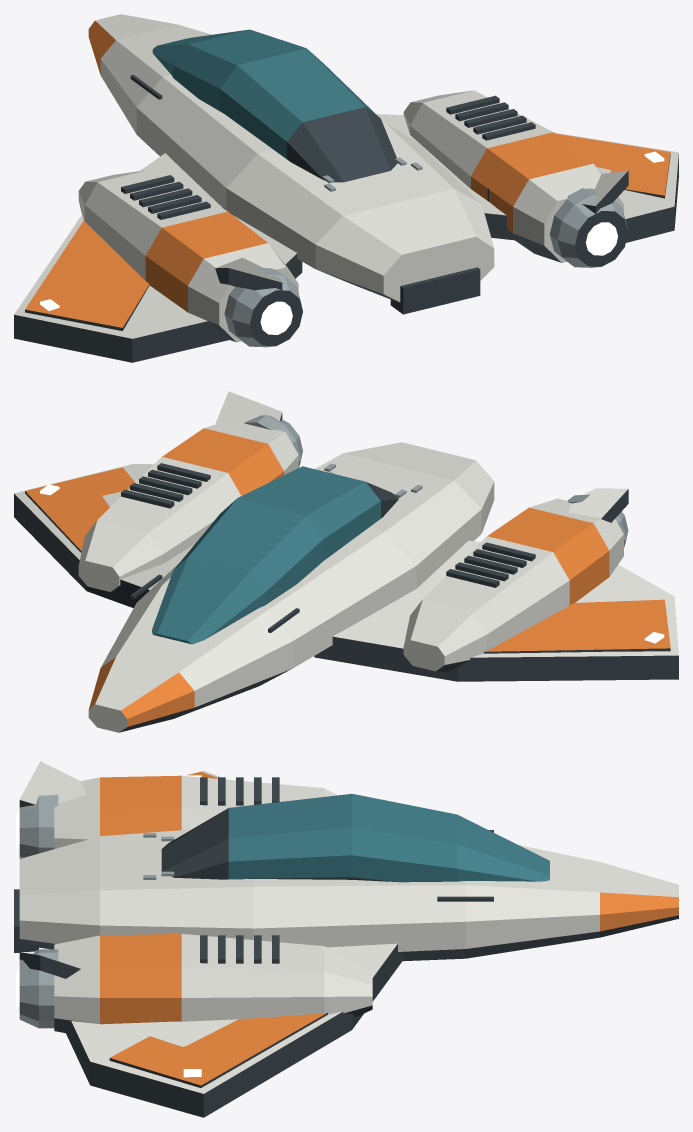
The model's file is kepler.glb.
3 views of the same model, one above another, from view 1: azimuth 30°, elevation 25°; view 2: azimuth 150°, elevation 25°; view 3: azimuth 270°, elevation 25° (orthographic).
Parts seen in each view (by area): view 1: kepler; view 2: kepler; view 3: kepler.
Part boxes in pixels (left/top/right/bottom): kepler: left=14, top=14, right=678, bottom=362; kepler: left=14, top=391, right=678, bottom=732; kepler: left=14, top=761, right=678, bottom=1117.
Size of the model in its own units: 5.52 by 1.16 by 4.8.
